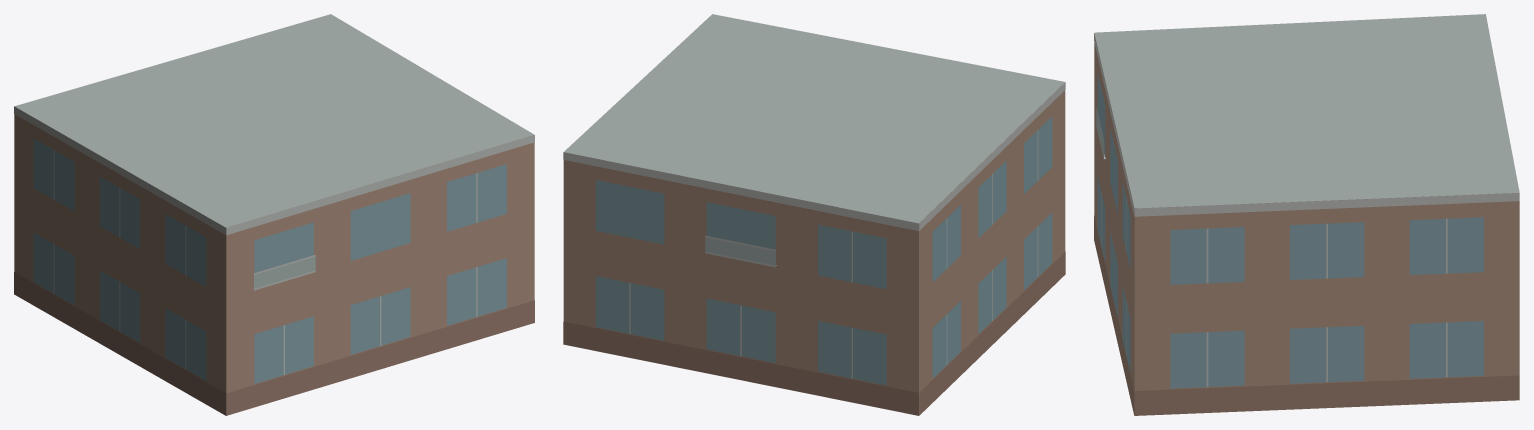
Rendered from survey-upis-32655271.glb.
The picture shows the model from 3 angles, left to right: view 1: azimuth 30°, elevation 25°; view 2: azimuth 150°, elevation 25°; view 3: azimuth 270°, elevation 25°; orthographic projection. The views are drawn at different scales.
Visible parts, largest first — view 1: survey-upis-32655271.tmp; view 2: survey-upis-32655271.tmp; view 3: survey-upis-32655271.tmp.
Boxes of the visible parts, box(x1,y1,x2,y2) form: survey-upis-32655271.tmp: box(14, 14, 534, 415); survey-upis-32655271.tmp: box(563, 14, 1065, 415); survey-upis-32655271.tmp: box(1094, 14, 1519, 415).
Size of the model in its own units: 12.28 by 6.1 by 11.36.
